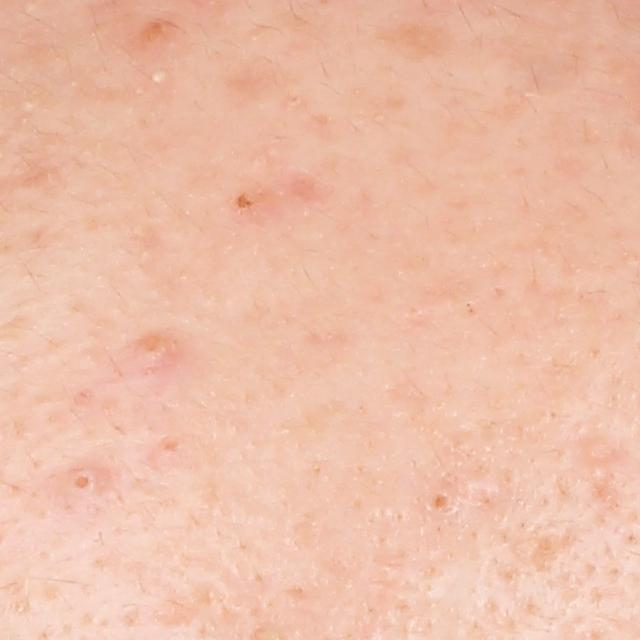comedo: (152, 430, 193, 463), (63, 465, 99, 499), (426, 487, 459, 519)
papule: (135, 327, 176, 376)
